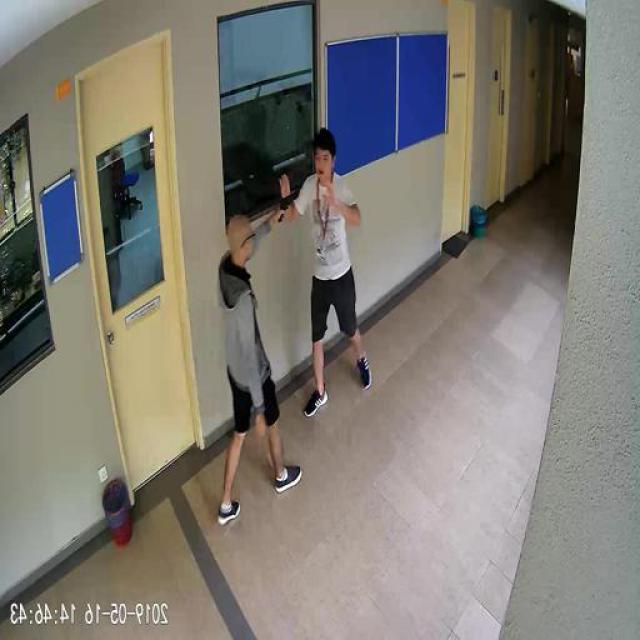Gun: (280, 190, 301, 221)
